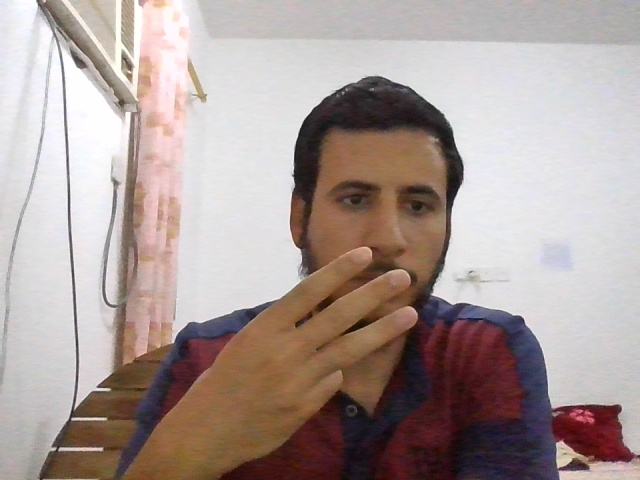Three: (187, 247, 419, 460)
